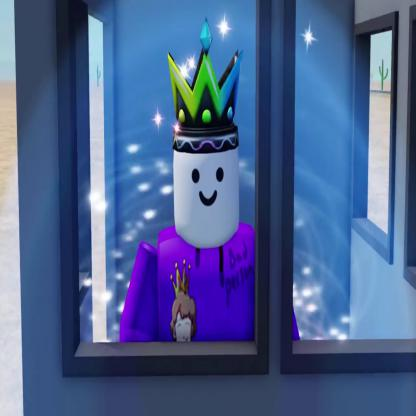Roblox-Avatar: (121, 17, 301, 345)
